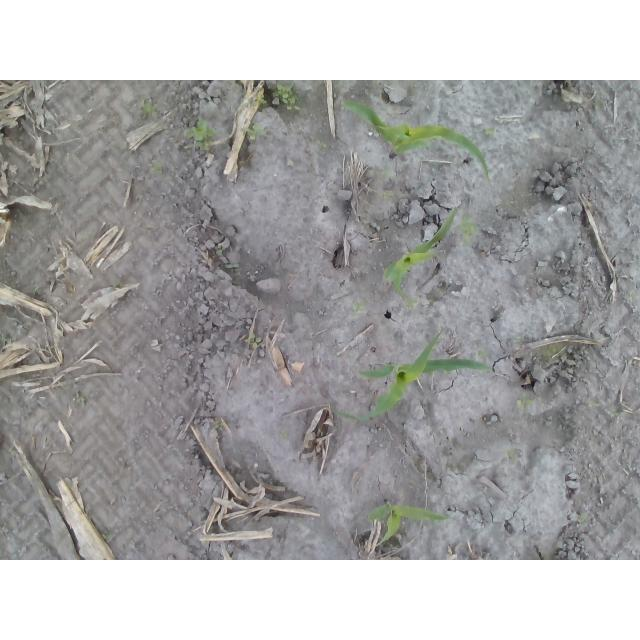Maize: (336, 329, 493, 422), (338, 99, 490, 179), (382, 207, 456, 298), (367, 499, 453, 550)
Weeds: (184, 120, 216, 152), (272, 82, 301, 111), (457, 214, 478, 244), (243, 124, 267, 141), (139, 99, 158, 117), (518, 392, 534, 411), (403, 294, 420, 310), (243, 334, 261, 347), (252, 94, 269, 106), (351, 302, 367, 314), (149, 161, 164, 172), (475, 348, 487, 361), (102, 529, 115, 539), (505, 449, 516, 460), (380, 169, 392, 179), (607, 409, 621, 417), (0, 336, 12, 345), (215, 245, 225, 255), (214, 421, 224, 431), (629, 291, 639, 301), (76, 395, 86, 405), (280, 430, 289, 441), (317, 140, 328, 149), (112, 281, 124, 288), (83, 231, 93, 239), (485, 126, 495, 134), (595, 101, 602, 112), (226, 264, 240, 269), (589, 401, 600, 407), (579, 514, 586, 522), (515, 337, 522, 344)
